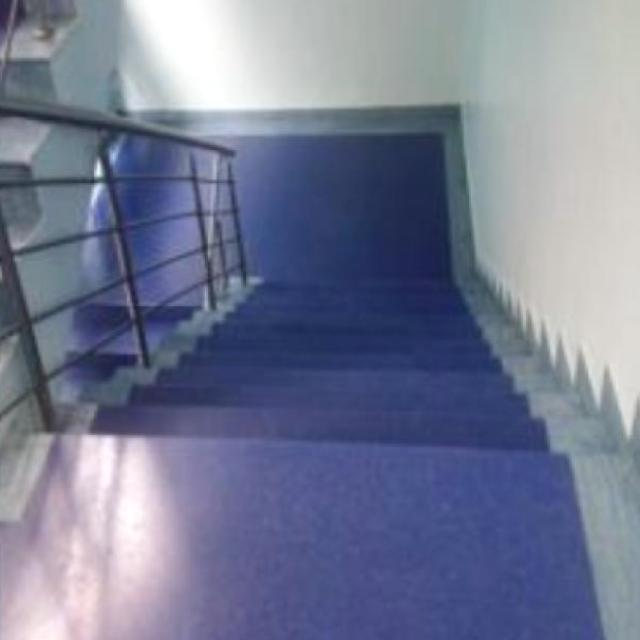stair: (78, 325, 597, 532)
